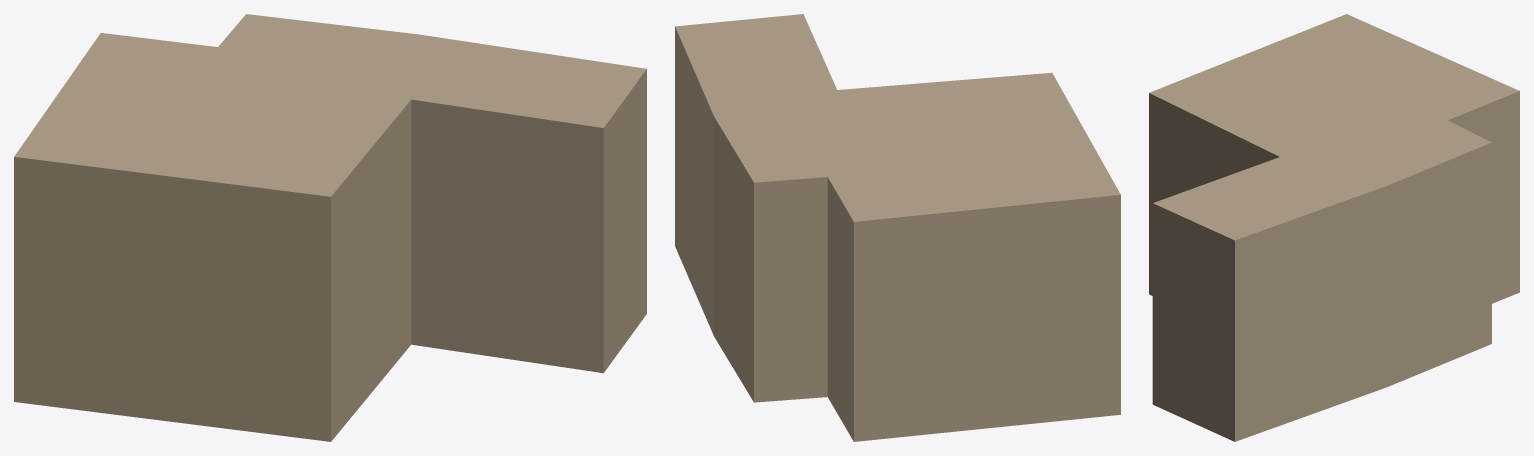
Rendered from bld_99588951.dae.
The picture shows the model from 3 angles, left to right: view 1: azimuth 30°, elevation 25°; view 2: azimuth 150°, elevation 25°; view 3: azimuth 270°, elevation 25°; orthographic projection. The views are drawn at different scales.
Parts seen in each view (by area): view 1: bld_99588951; view 2: bld_99588951; view 3: bld_99588951.
Part boxes in pixels (x1,y1,x2,y2): bld_99588951: (14, 14, 646, 441); bld_99588951: (675, 14, 1120, 441); bld_99588951: (1149, 14, 1519, 441).
Size of the model in its own units: 19.29 by 13.35 by 8.
